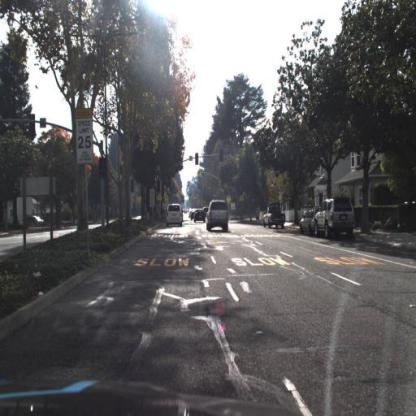car: (315, 198, 359, 245), (313, 194, 358, 239), (206, 199, 232, 234), (263, 204, 287, 231), (165, 202, 186, 231), (301, 207, 319, 237), (24, 214, 51, 232), (27, 212, 47, 230), (194, 210, 207, 226), (204, 209, 214, 221)
pedestrian: (258, 205, 263, 221)
trafficLight-Green: (157, 180, 162, 195), (221, 149, 226, 164), (196, 153, 200, 167)
